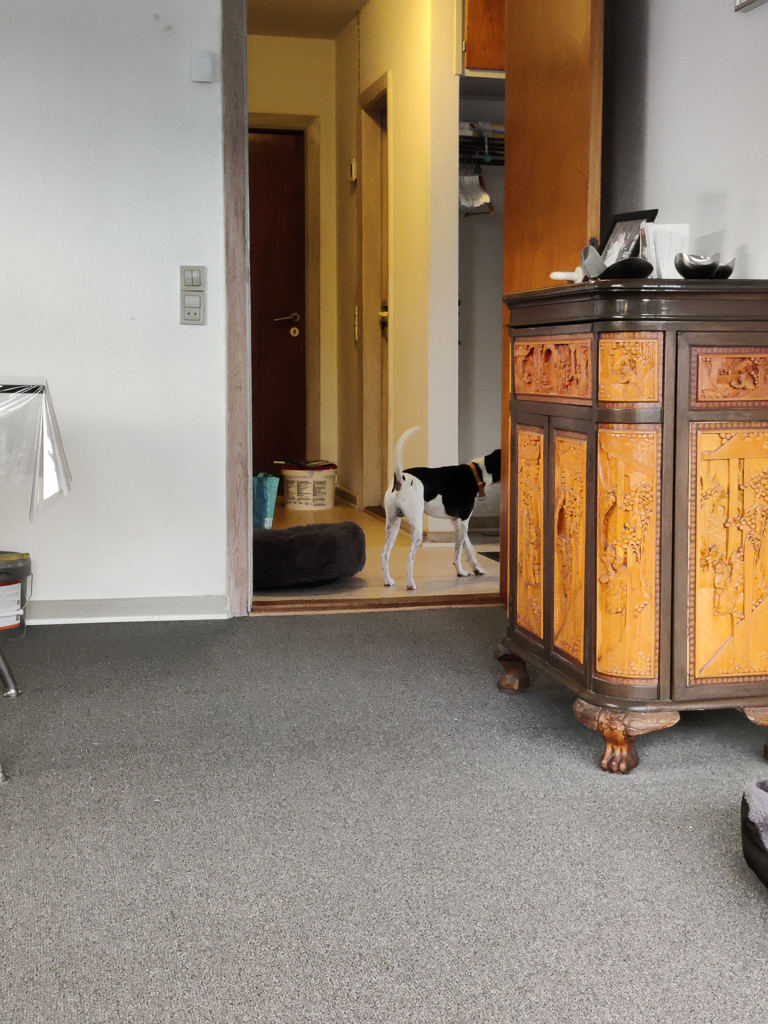Dog: (371, 412, 518, 597)
